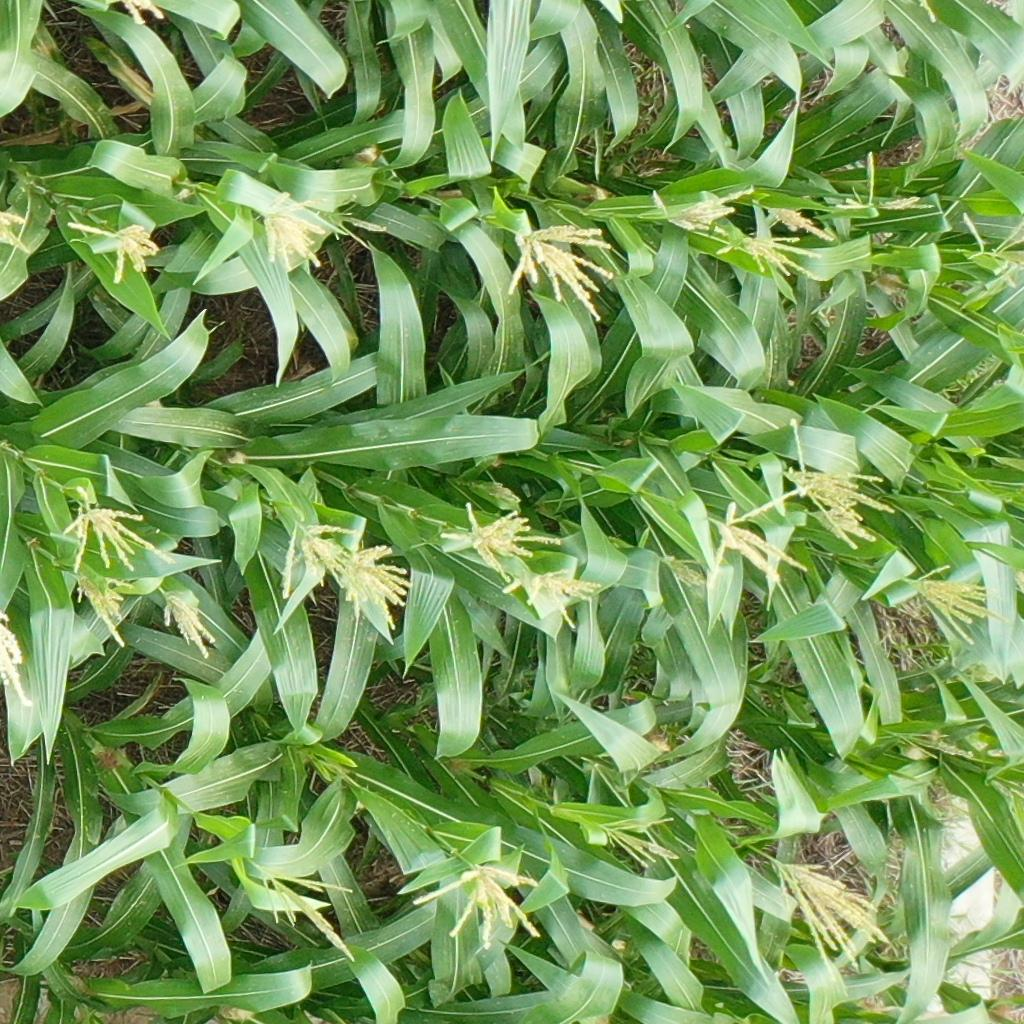Tassel: (769, 857, 892, 984), (787, 417, 893, 556), (411, 864, 547, 953), (506, 224, 620, 325), (704, 484, 812, 588), (256, 865, 364, 966), (438, 502, 565, 586), (64, 486, 178, 577), (903, 564, 1011, 645), (340, 541, 412, 635), (500, 566, 600, 631), (831, 151, 933, 214), (65, 218, 162, 283), (253, 190, 330, 271), (713, 228, 819, 286), (275, 519, 354, 596), (597, 810, 683, 876), (649, 183, 756, 232), (73, 571, 138, 649), (158, 588, 219, 659), (1, 608, 38, 707), (959, 210, 1024, 266), (329, 194, 389, 252), (808, 499, 875, 546), (764, 203, 837, 244), (893, 728, 976, 762), (661, 552, 708, 592), (103, 1, 167, 24), (1, 209, 28, 229)
